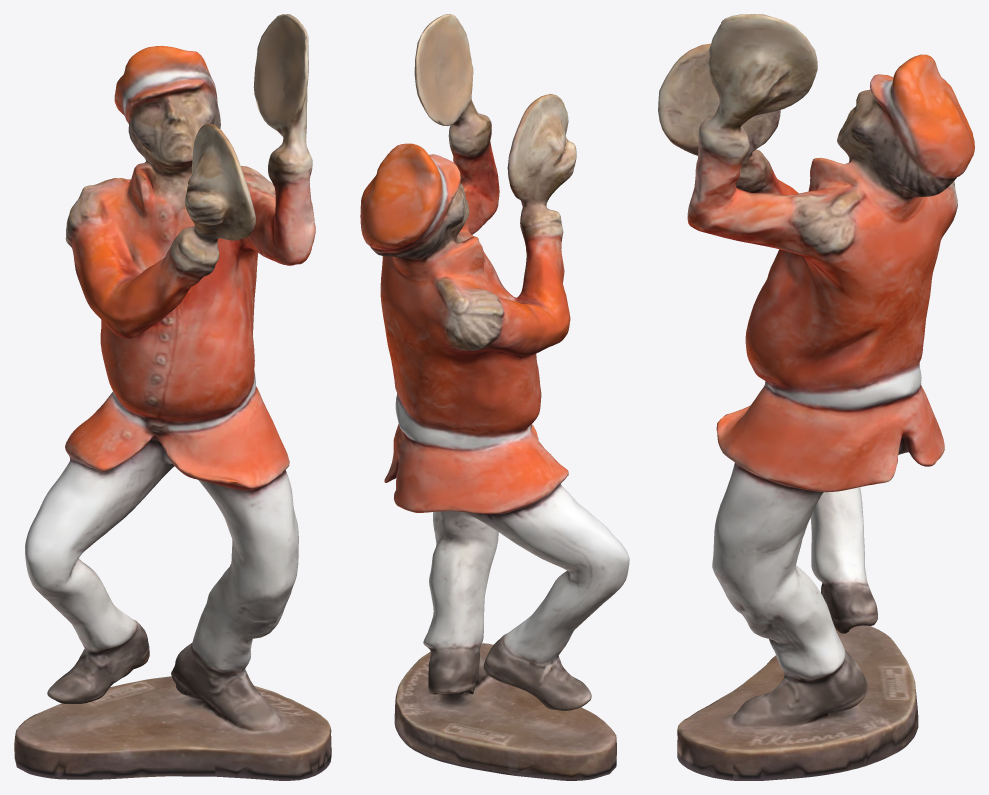
File: khanna-satwant-sher-singh-cymbal-walae.glb
The picture shows the model from 3 angles, left to right: view 1: azimuth 30°, elevation 25°; view 2: azimuth 150°, elevation 25°; view 3: azimuth 270°, elevation 25°; orthographic projection. The views are drawn at different scales.
Visible parts, largest first — view 1: Mesh; view 2: Mesh; view 3: Mesh.
Part boxes in pixels (x1,y1,x2,y2): Mesh: [14, 14, 331, 780]; Mesh: [360, 14, 629, 780]; Mesh: [658, 14, 974, 780].
Bounding box in the file's own units: 7.91 × 21.16 × 8.04.
Materials: 1 (1 with a texture image).
